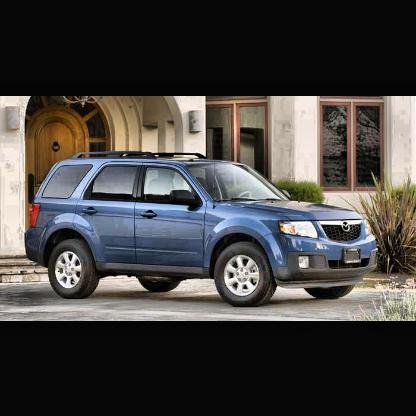Mazda Tribute SUV 2011: (26, 153, 381, 308)
